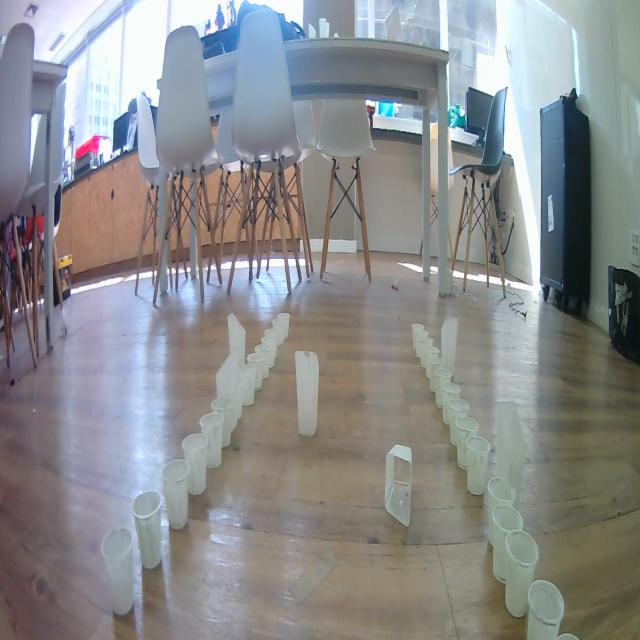erva_daninha: (494, 399, 525, 499), (384, 444, 413, 528), (215, 352, 243, 431), (295, 350, 319, 437), (228, 312, 246, 393), (441, 316, 458, 379)
planta: (504, 530, 539, 619), (101, 526, 135, 616), (492, 502, 523, 584), (132, 491, 162, 570), (527, 579, 564, 640), (487, 476, 516, 548), (162, 458, 190, 530), (181, 432, 207, 496), (466, 434, 491, 496), (199, 414, 223, 469), (456, 416, 479, 470), (211, 396, 232, 448), (449, 398, 470, 447), (442, 382, 461, 425), (434, 369, 454, 408), (240, 363, 256, 406), (247, 352, 263, 391), (430, 358, 447, 392), (254, 344, 270, 378), (261, 334, 277, 367), (415, 329, 431, 362), (425, 346, 441, 377), (420, 338, 436, 368), (267, 327, 283, 356), (411, 323, 426, 353), (271, 319, 287, 346), (276, 312, 290, 338)
